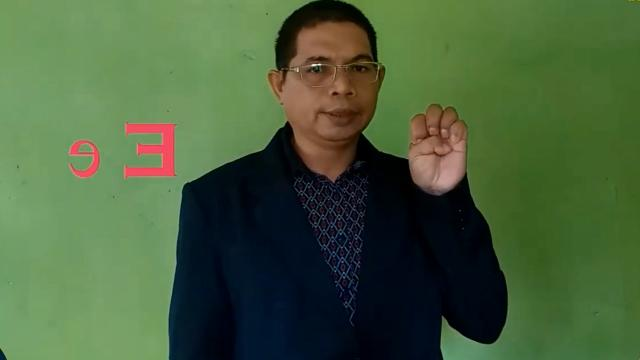E: (407, 102, 471, 190)
